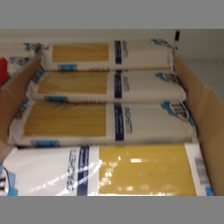pasta: (1, 146, 213, 195), (7, 98, 198, 142), (23, 69, 186, 99), (35, 39, 175, 68)
